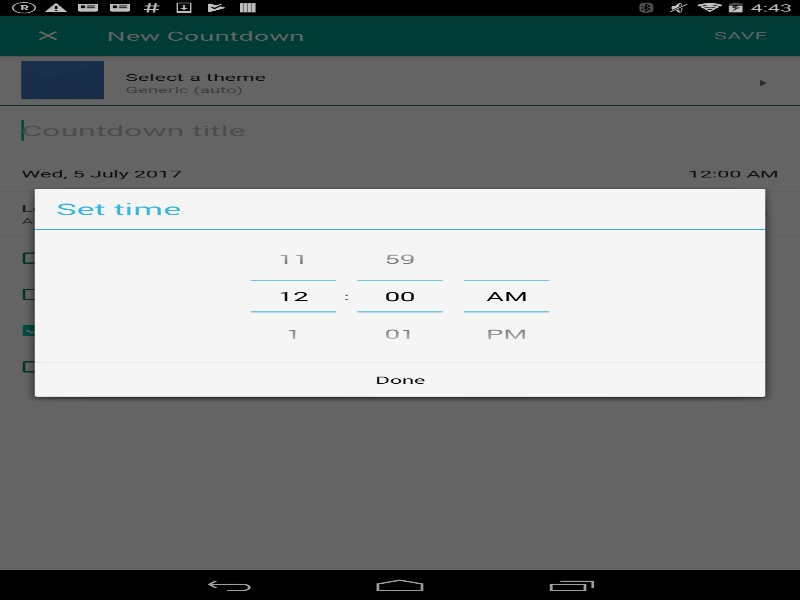Button: (34, 363, 765, 396), (250, 240, 336, 281), (250, 311, 336, 352), (463, 311, 549, 352), (357, 240, 442, 281), (357, 311, 442, 352)
Input: (250, 281, 336, 311), (463, 281, 549, 311), (357, 281, 442, 311)
